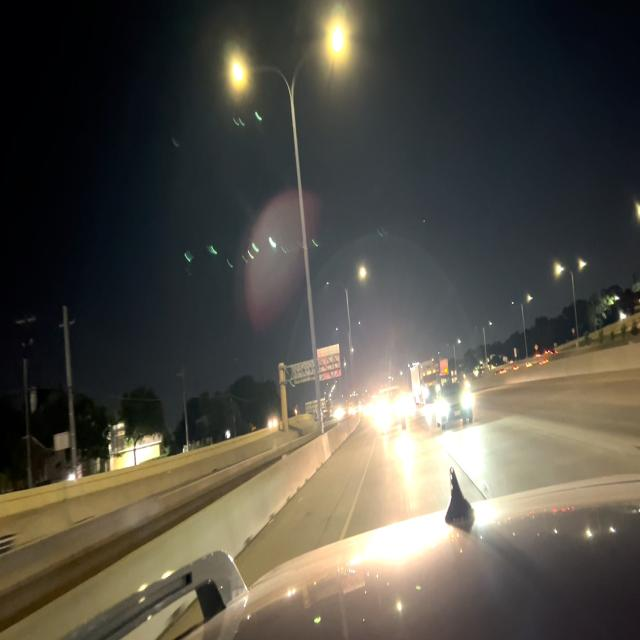back-of-sign: (291, 345, 342, 386)
